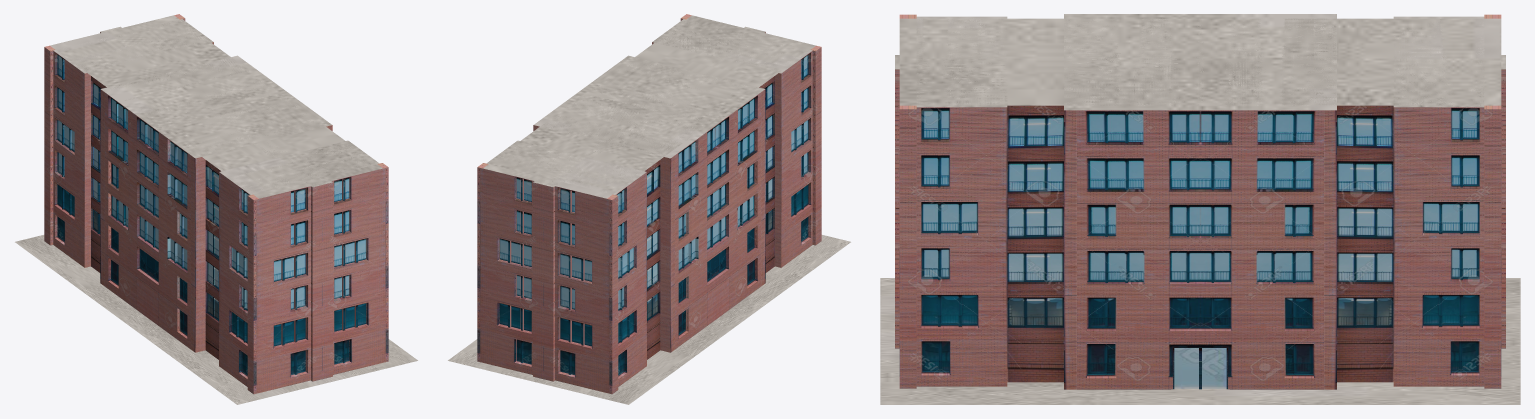
Rendered from building.glb.
The picture shows the model from 3 angles, left to right: view 1: azimuth 30°, elevation 25°; view 2: azimuth 150°, elevation 25°; view 3: azimuth 270°, elevation 25°; orthographic projection. The views are drawn at different scales.
Parts seen in each view (by area): view 1: Plane; view 2: Plane; view 3: Plane.
Part boxes in pixels (x1,y1,x2,y2): Plane: [15, 14, 417, 404]; Plane: [448, 14, 850, 404]; Plane: [880, 14, 1520, 404].
Size of the model in its own units: 1.84 by 1.89 by 3.92.
3 materials, 3 textured.
